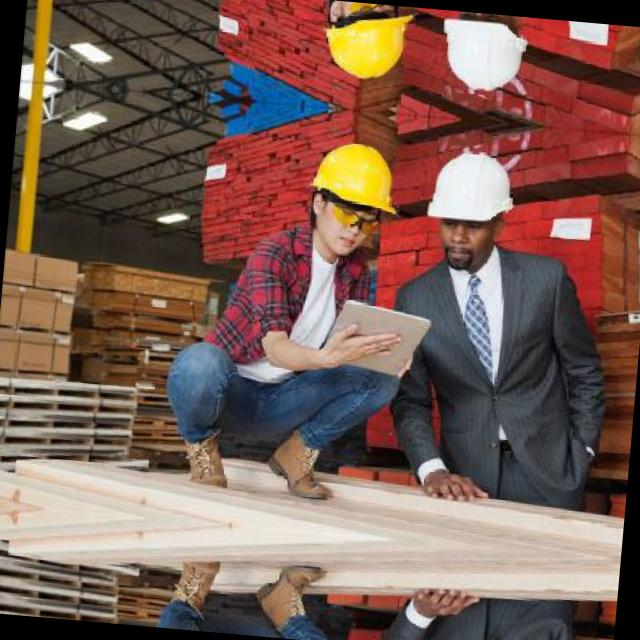helmet: (285, 130, 393, 281), (416, 134, 525, 279), (431, 10, 536, 106), (302, 0, 406, 86)
